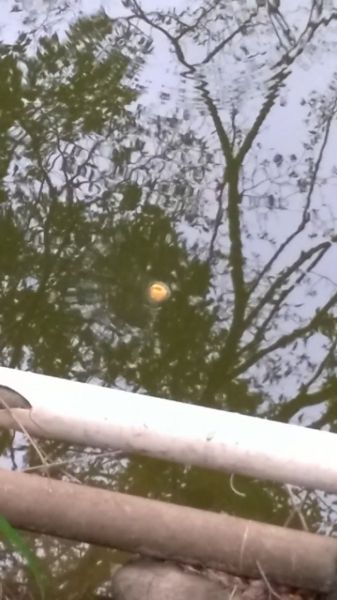eggs: (142, 277, 171, 306)
